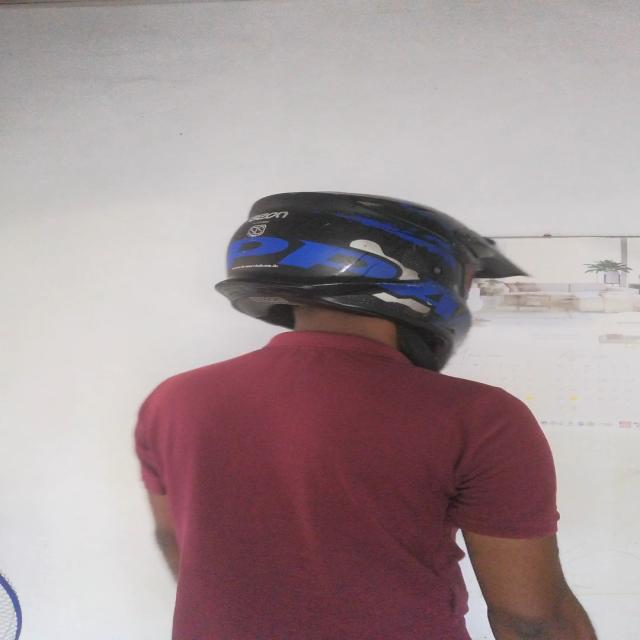Helmet_Wearer: (195, 181, 528, 421)
Person: (119, 180, 591, 640)
